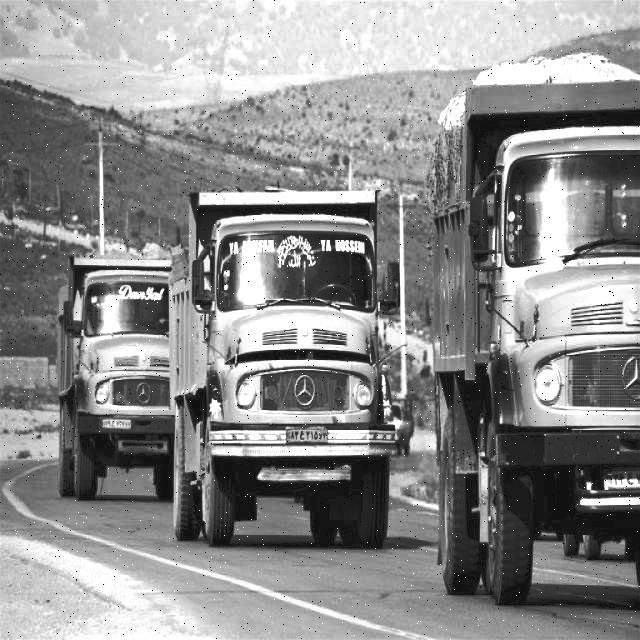HCV: (423, 48, 639, 630), (166, 173, 412, 577), (40, 235, 164, 521)
